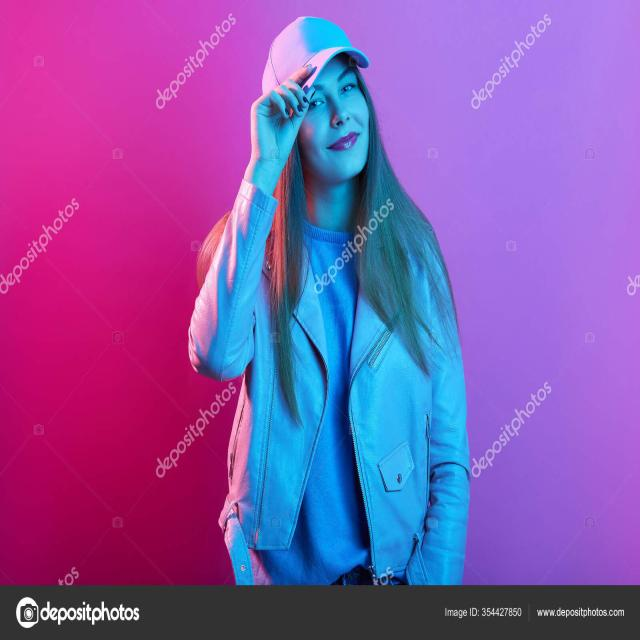cap: (253, 12, 379, 184)
